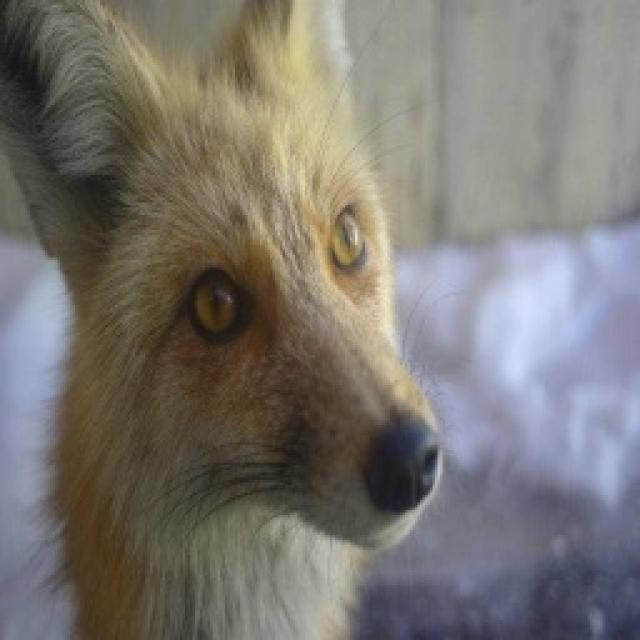Fox: (0, 0, 448, 630)
